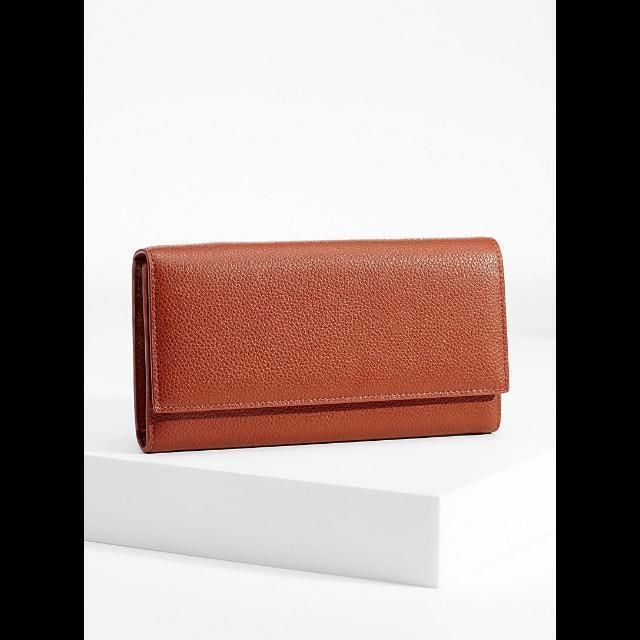wallet: (130, 233, 506, 444)
